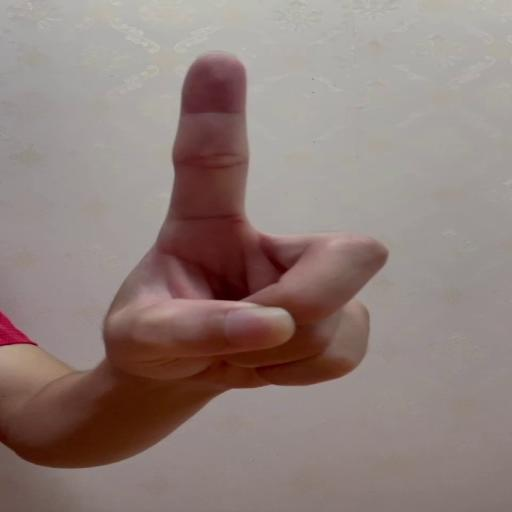point: (156, 50, 392, 390)
